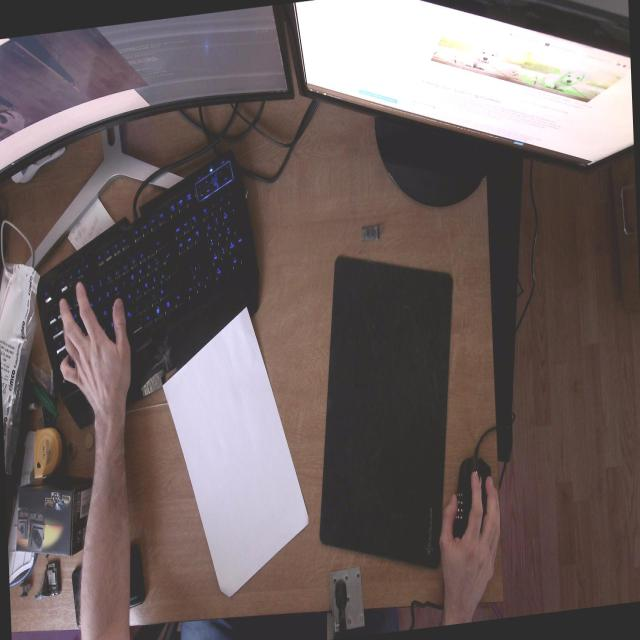keyboard-with-hands: (32, 149, 266, 436)
